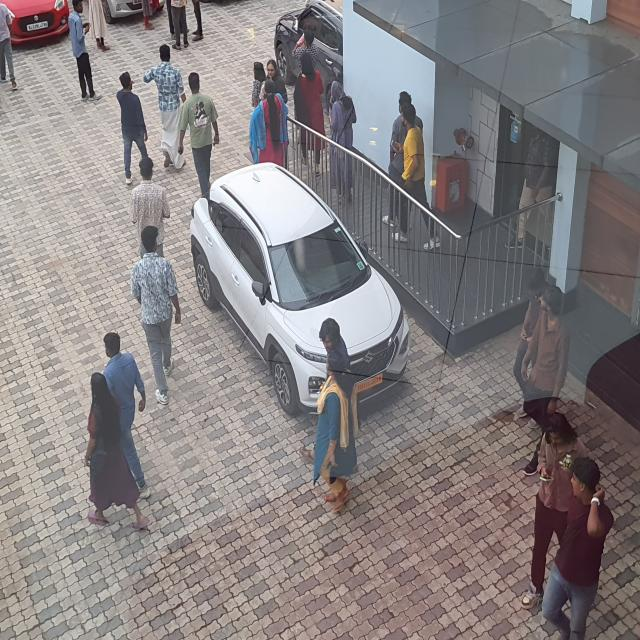humans: (67, 356, 157, 568), (516, 412, 596, 613), (131, 218, 190, 415), (550, 452, 610, 640), (100, 326, 159, 511), (520, 281, 562, 478), (312, 350, 358, 515), (396, 101, 442, 264), (140, 40, 187, 192), (174, 70, 218, 205), (325, 75, 363, 215), (110, 65, 150, 189), (64, 0, 106, 115), (126, 154, 171, 258), (295, 47, 331, 177), (509, 256, 544, 383), (245, 78, 294, 168), (384, 88, 410, 243), (289, 15, 324, 81), (318, 312, 353, 371), (260, 51, 288, 98), (250, 59, 267, 104)
